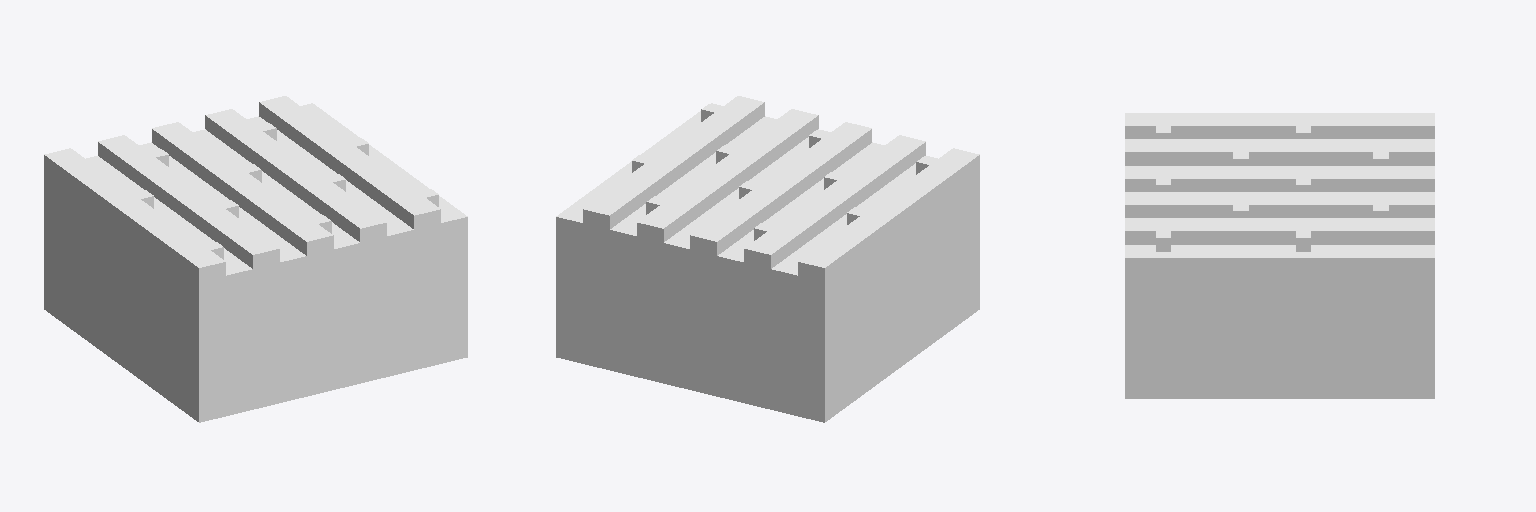
The model's file is Sunflower_Level_1.obj.
The picture shows the model from 3 angles: view 1: azimuth 30°, elevation 25°; view 2: azimuth 150°, elevation 25°; view 3: azimuth 270°, elevation 25°; orthographic projection.
Visible parts, largest first — view 1: Sunflower_Level_1; view 2: Sunflower_Level_1; view 3: Sunflower_Level_1.
Boxes of the visible parts, x1,y1,x2,y2 form: Sunflower_Level_1: [44, 96, 467, 422]; Sunflower_Level_1: [556, 96, 979, 422]; Sunflower_Level_1: [1125, 113, 1434, 398].
Size of the model in its own units: 20 by 11 by 20.